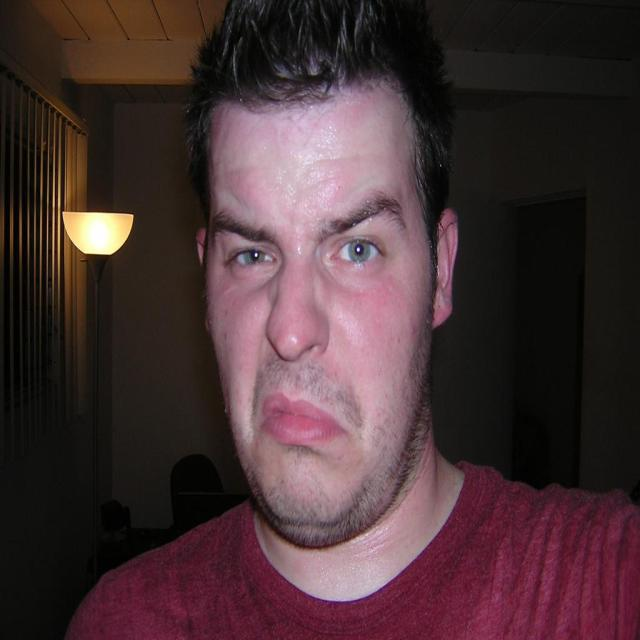no-glass: (222, 234, 390, 269)
